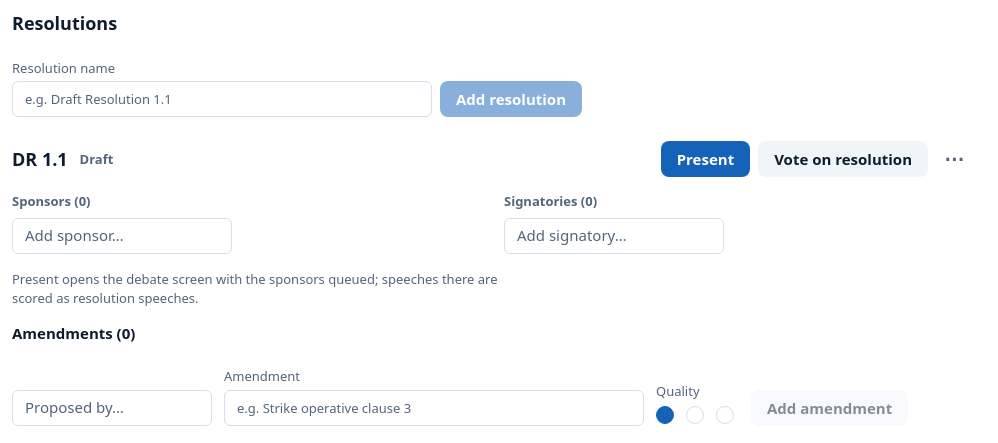
Test: ResolutionsPanel › renames
Click the button named "More for DR 1.1".
click(954, 159)  # box x1=936 y1=145 x2=972 y2=173
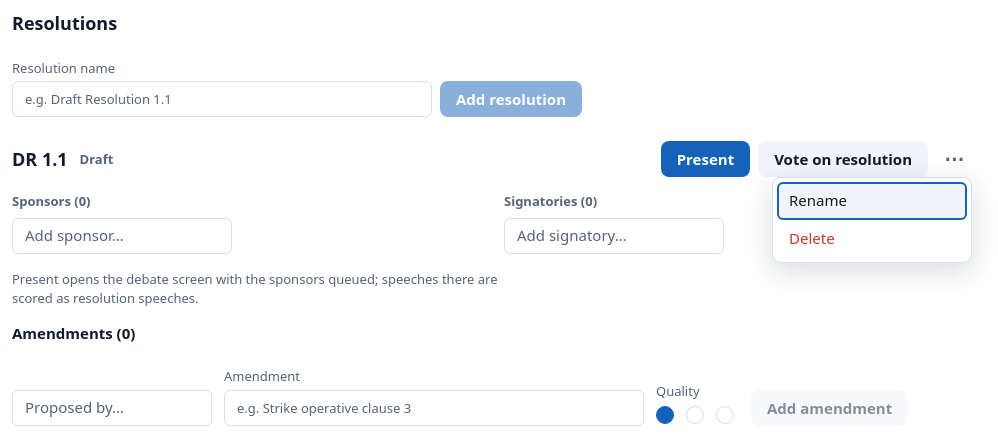
Click the menu item "Rename".
click(872, 201)  # box x1=777 y1=182 x2=967 y2=220
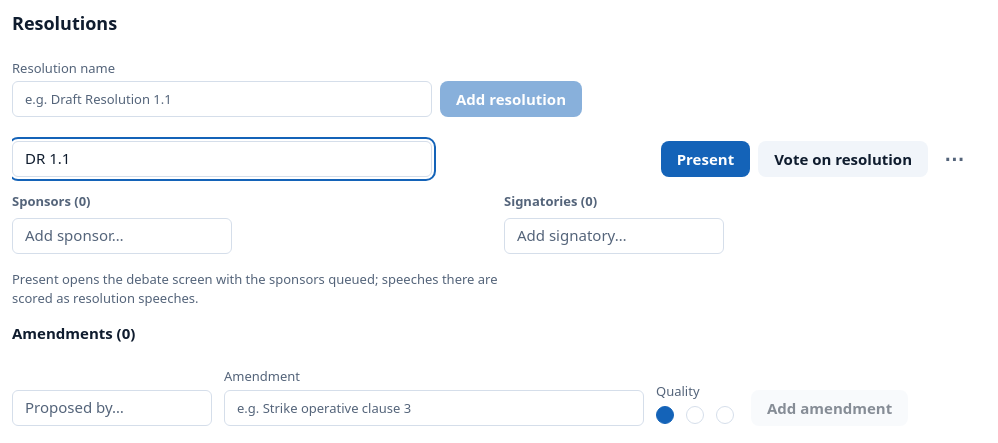
Replace the text in the field named "Resolution name for DR 1.1" with "DR 2.0" at (222, 159), box x1=12 y1=141 x2=432 y2=177
Then press Enter
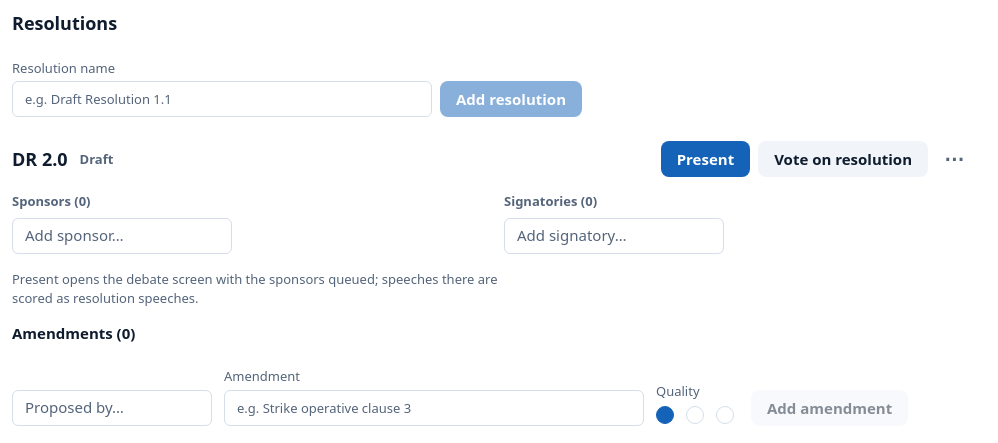
expect the heading "DR 2.0" is shown: met, box x1=12 y1=148 x2=68 y2=171
